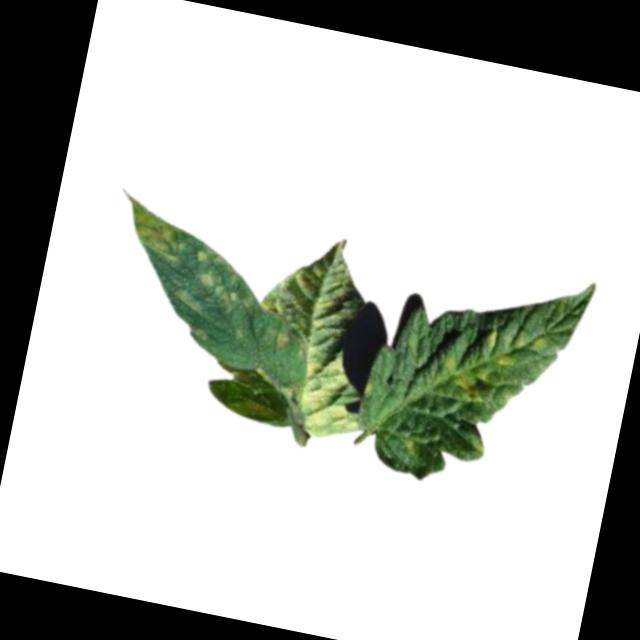Leaf_Mold: (292, 342, 371, 446), (122, 201, 192, 264), (479, 323, 548, 374), (193, 273, 259, 315), (441, 355, 492, 406), (264, 327, 297, 354), (192, 246, 227, 270)
